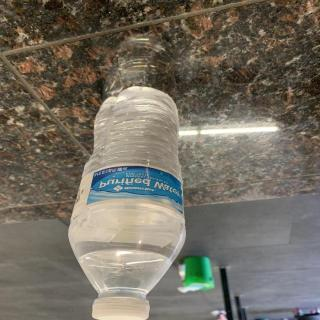Anorganik: (73, 82, 191, 319)
